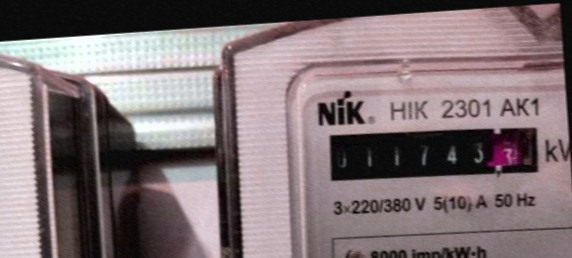0: (331, 141, 347, 169)
1: (358, 139, 374, 168), (386, 138, 401, 167)
3: (467, 137, 483, 165), (497, 145, 513, 167)
4: (441, 140, 457, 165)
7: (413, 139, 429, 165)
screen: (317, 113, 547, 193)
